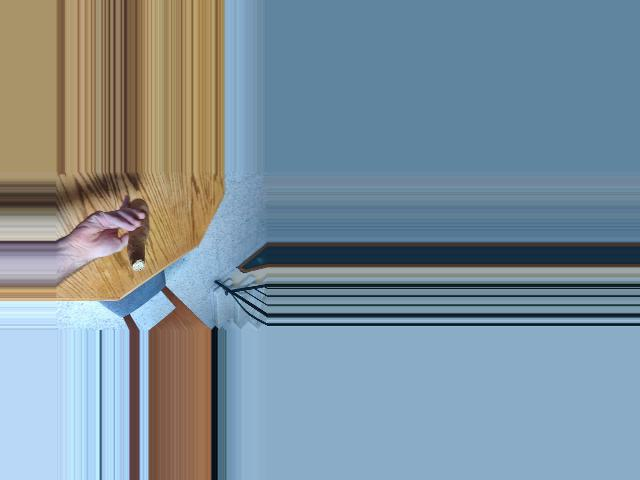sweet_potato: (129, 204, 156, 262)
